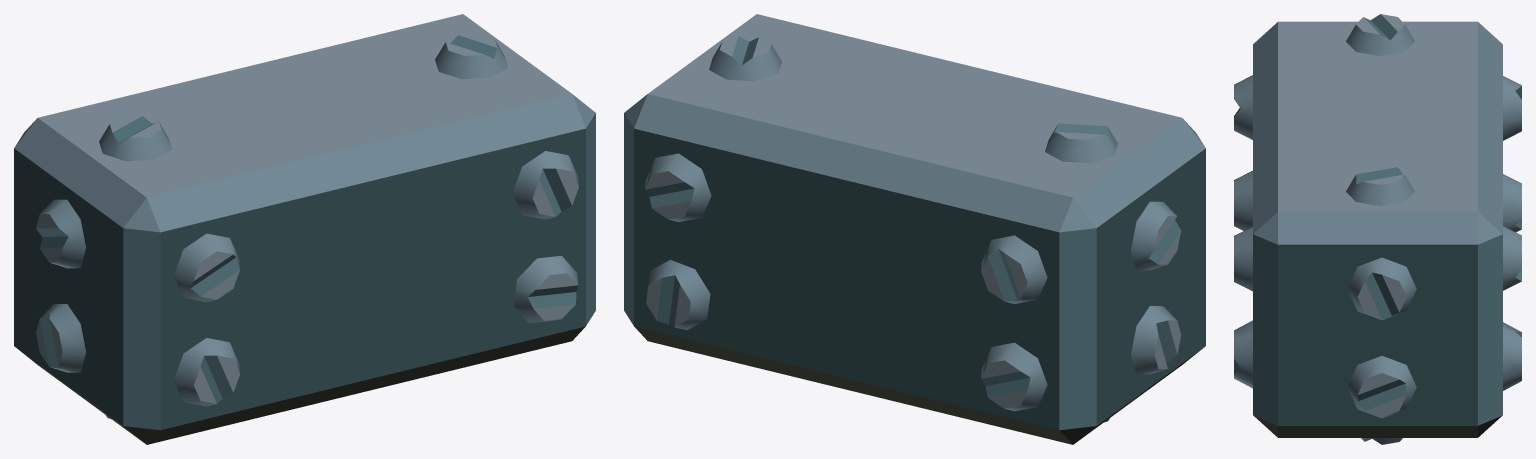
The model's file is m_kub_metal_brick.FBX.
3 views of the same model, side by side, from view 1: azimuth 30°, elevation 25°; view 2: azimuth 150°, elevation 25°; view 3: azimuth 270°, elevation 25° (orthographic). The views are drawn at different scales.
Parts seen in each view (by area): view 1: m_kub_metal_brick; view 2: m_kub_metal_brick; view 3: m_kub_metal_brick.
Part boxes in pixels (bbox=[...]): m_kub_metal_brick: bbox=[14, 14, 595, 444]; m_kub_metal_brick: bbox=[624, 14, 1205, 444]; m_kub_metal_brick: bbox=[1234, 14, 1521, 444].
Bounding box in the file's own units: 2.15 × 1.15 × 1.15.
